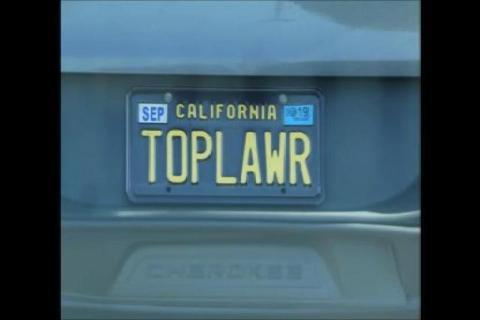LicensePlate: (125, 85, 328, 207)
